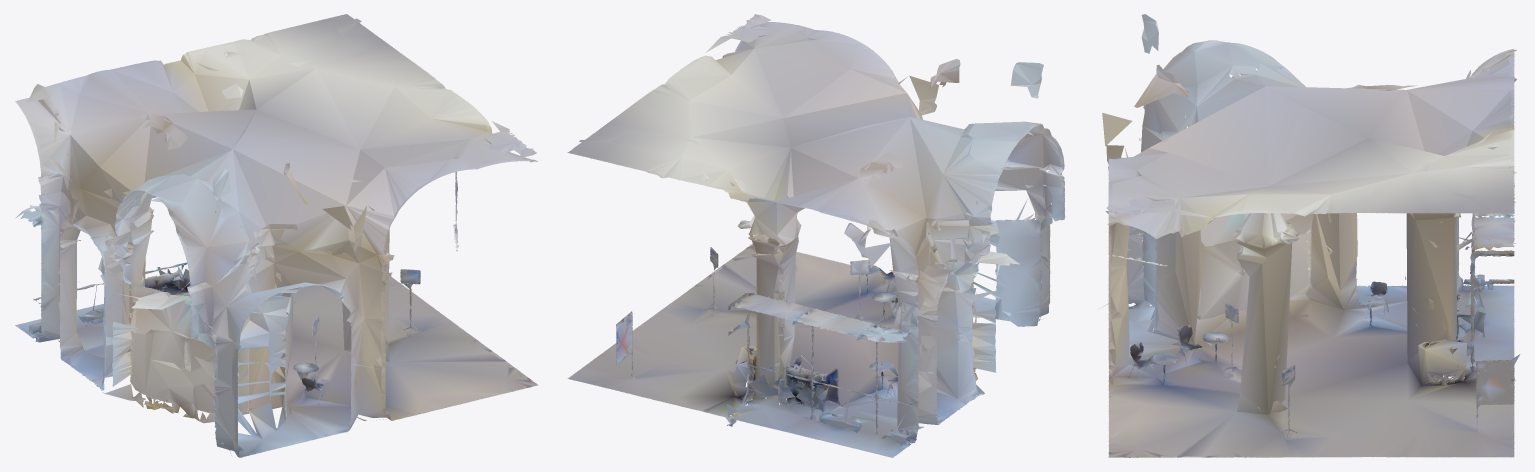
3 views of the same model, side by side, from view 1: azimuth 30°, elevation 25°; view 2: azimuth 150°, elevation 25°; view 3: azimuth 270°, elevation 25° (orthographic). The views are drawn at different scales.
Bounding box in the file's own units: 10.38 × 8.27 × 10.52.
